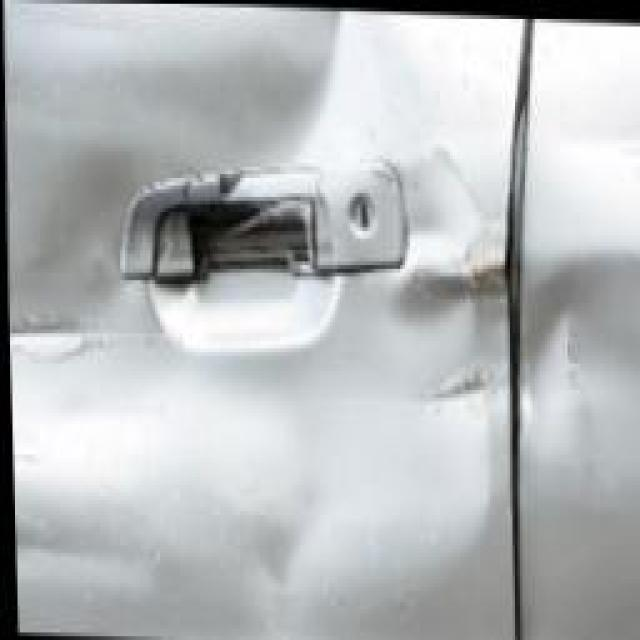Door: (0, 0, 540, 640), (545, 265, 619, 425)
